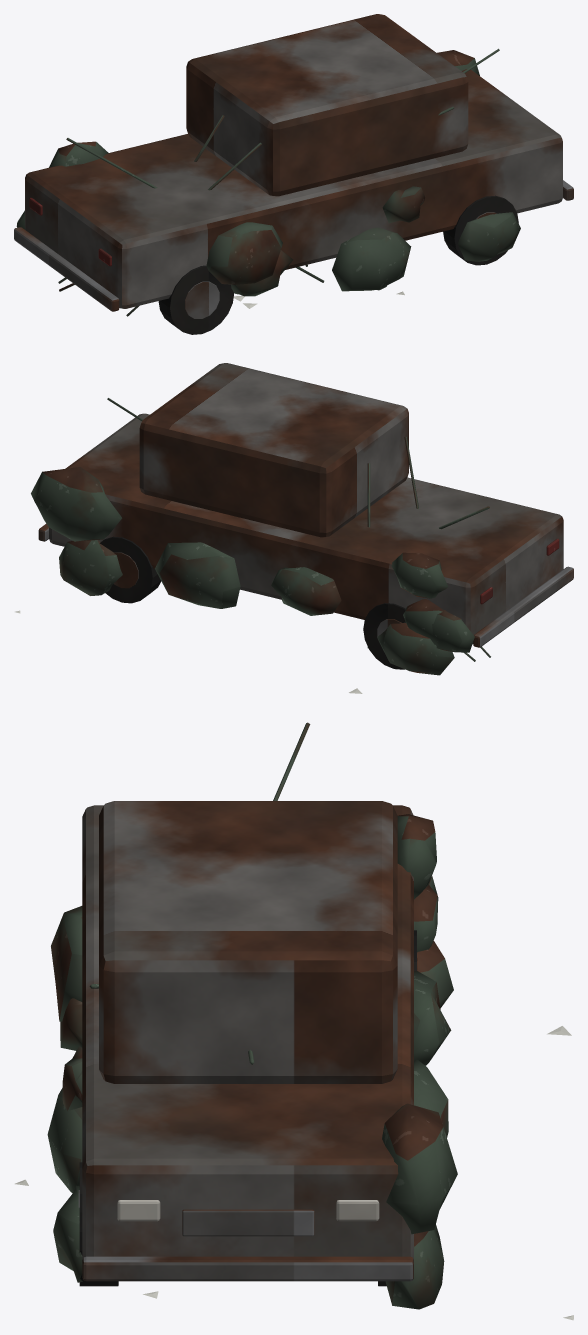
The model's file is JV06_rusted_overgrown_car_v2.glb.
3 renders of one model, top to bottom at view 1: azimuth 30°, elevation 25°; view 2: azimuth 150°, elevation 25°; view 3: azimuth 270°, elevation 25°, orthographic. The views are drawn at different scales.
Visible parts, largest first — view 1: JV06_rusted_overgrown_car_v2; view 2: JV06_rusted_overgrown_car_v2; view 3: JV06_rusted_overgrown_car_v2.
Boxes of the visible parts, x1,y1,x2,y2 form: JV06_rusted_overgrown_car_v2: [14, 14, 573, 334]; JV06_rusted_overgrown_car_v2: [15, 363, 573, 693]; JV06_rusted_overgrown_car_v2: [15, 722, 573, 1320].
Bounding box in the file's own units: 4.4 × 1.7 × 2.72.
Materials: 7 (7 with a texture image).
